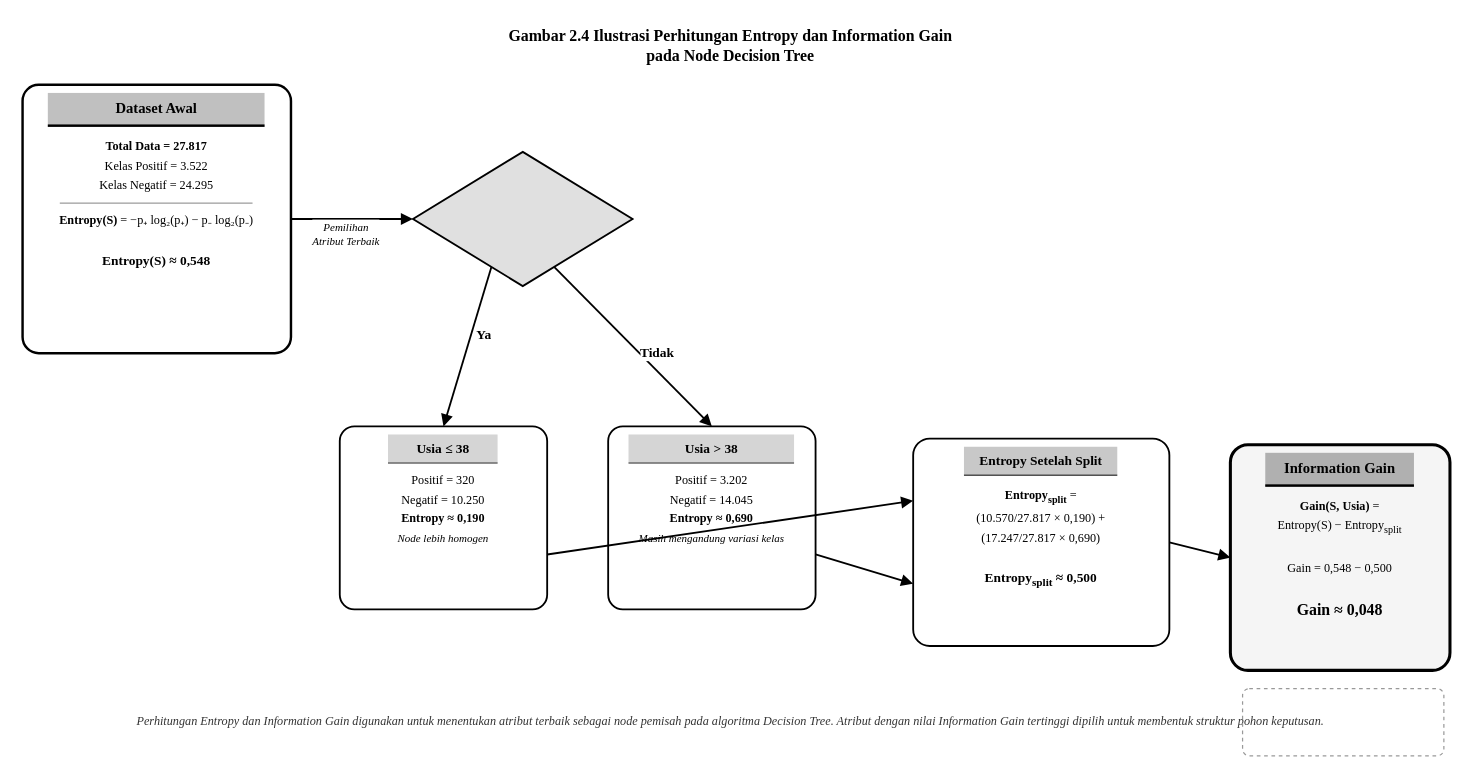
This 1473x777 diagram has some shape labels left out. Each missing label, with the box of its shape:
Semakin besar nilai Gain, semakin baik atribut digunakan sebagai node pemisah.: (1241, 687, 1444, 756)
Usia ≤ 38?: (412, 150, 633, 286)
